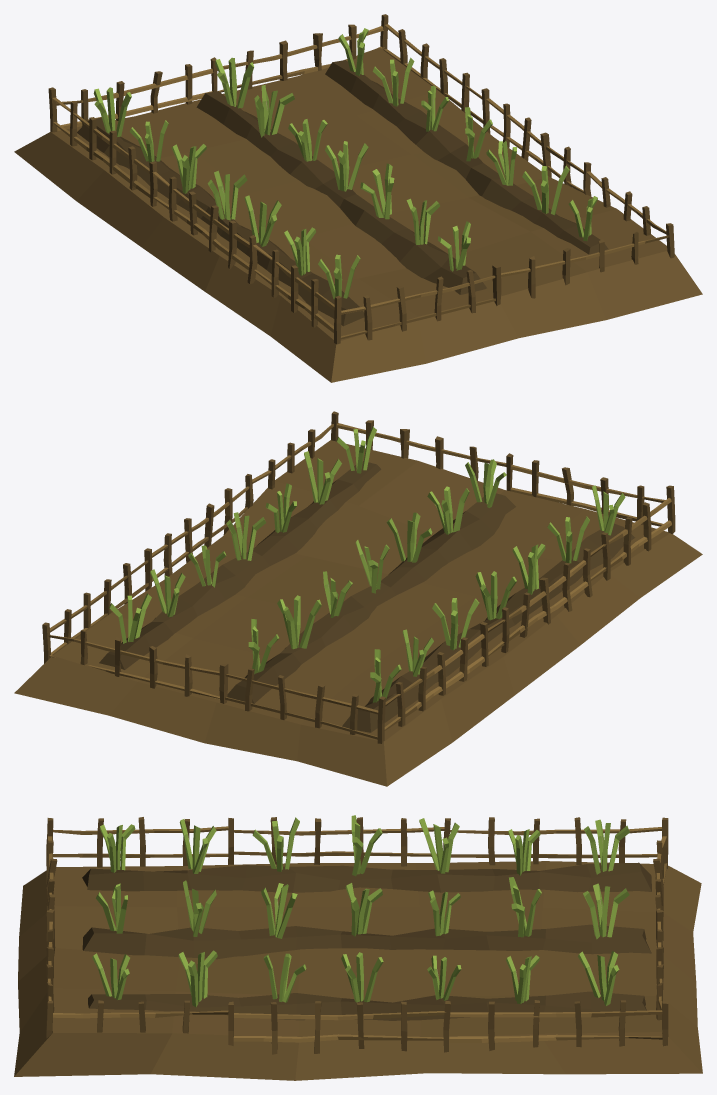
Rendered from leekField.fbx.
3 renders of one model, top to bottom at view 1: azimuth 30°, elevation 25°; view 2: azimuth 150°, elevation 25°; view 3: azimuth 270°, elevation 25°, orthographic. The views are drawn at different scales.
Visible parts, largest first — view 1: leekField_LOD0; view 2: leekField_LOD0; view 3: leekField_LOD0.
Boxes of the visible parts, bbox=[...] form: leekField_LOD0: bbox=[14, 14, 702, 382]; leekField_LOD0: bbox=[14, 411, 702, 786]; leekField_LOD0: bbox=[14, 815, 702, 1080].
Size of what is drawn, in the model's own units: 19.55 by 4.4 by 29.17.
